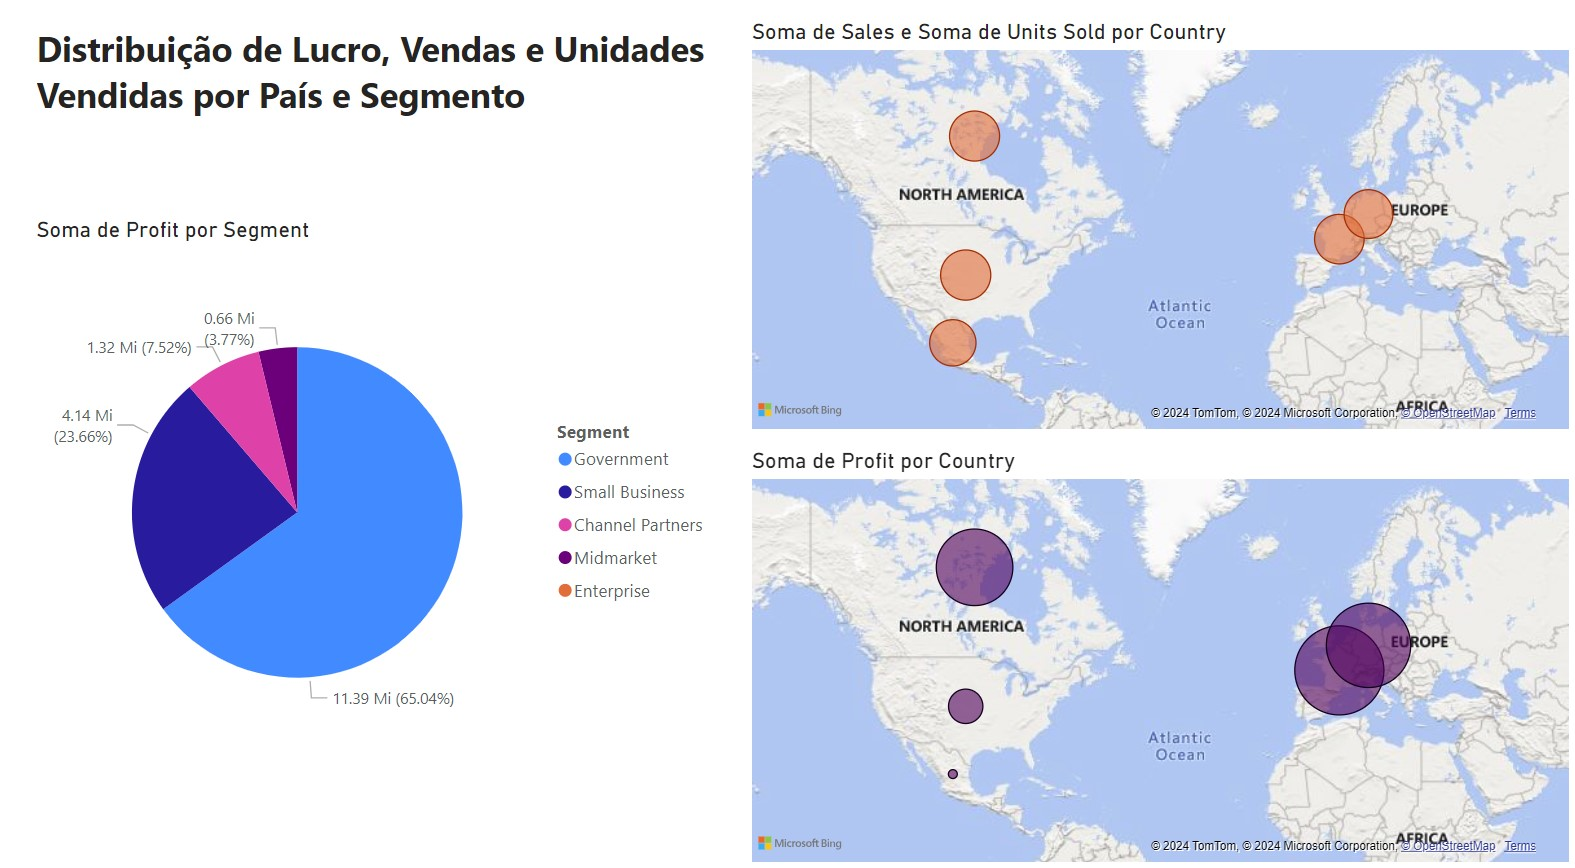

This screenshot's page, from the dashboard's own definition file:
{"tool":"powerbi","page":{"name":"Página 1","canvas":[1280,720],"ordinal":0},"visuals":[{"type":"map","fields":{"Size":["Sum(financials. Sales)"],"Category":["financials.Country"]},"box":[580.5,62.6,640.8,322.1],"z":0},{"type":"pieChart","fields":{"Y":["Sum(financials.Profit)"],"Category":["financials.Segment"]},"box":[27.8,215.5,534.2,438],"z":1},{"type":"map","fields":{"Category":["financials.Country"],"Size":["Sum(financials.Profit)"]},"box":[580.5,394,640.8,325.6],"z":2},{"type":"textbox","box":[28,63,534,153],"z":3}]}

Visuals, with their boxes in screenshot pixels (x1, y1, x2, y2), scaled from the page's 1280x720 canvas onto the 1575x868 screenshot:
map - Sum(financials. Sales) x financials.Country: (x1=714, y1=75, x2=1503, y2=464)
pieChart - Sum(financials.Profit) x financials.Segment: (x1=34, y1=260, x2=692, y2=788)
map - financials.Country x Sum(financials.Profit): (x1=714, y1=475, x2=1503, y2=867)
textbox: (x1=34, y1=76, x2=692, y2=260)
